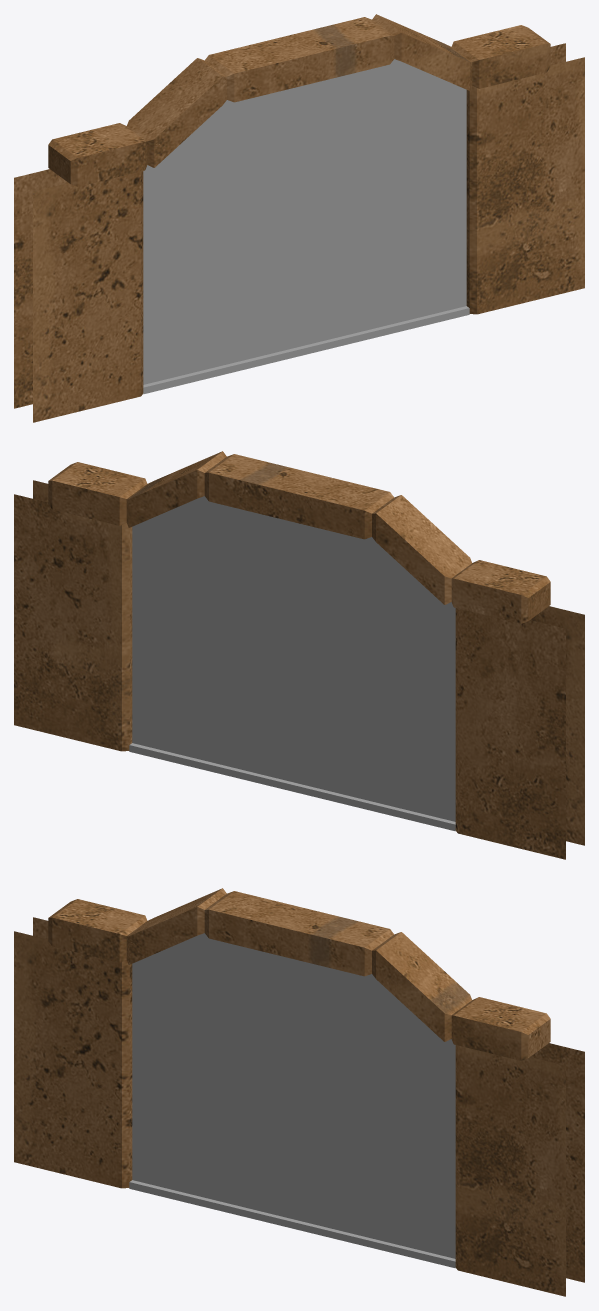
The model's file is door.fbx.
3 renders of one model, top to bottom at view 1: azimuth 30°, elevation 25°; view 2: azimuth 150°, elevation 25°; view 3: azimuth 330°, elevation 25°, orthographic.
Parts seen in each view (by area): view 1: wall:wall:wall:polySurface4, wall:wall:polySurface1; view 2: wall:wall:wall:polySurface4, wall:wall:polySurface1; view 3: wall:wall:wall:polySurface4, wall:wall:polySurface1.
Part boxes in pixels (x1,y1,x2,y2): wall:wall:wall:polySurface4: [14, 14, 584, 422]; wall:wall:polySurface1: [143, 59, 466, 384]; wall:wall:wall:polySurface4: [14, 451, 584, 859]; wall:wall:polySurface1: [132, 496, 455, 821]; wall:wall:wall:polySurface4: [14, 888, 584, 1296]; wall:wall:polySurface1: [132, 933, 455, 1258].
Bounding box in the file's own units: 10 × 5.27 × 0.8.
